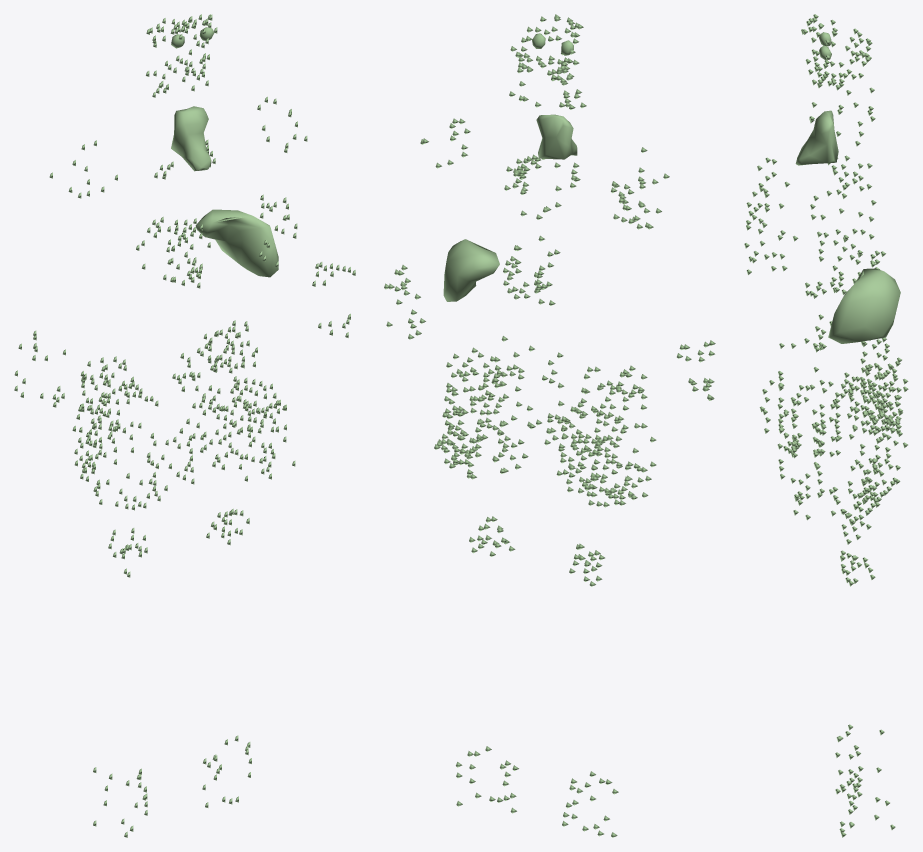
Rendered from pediatric_child_10y_female.lymphatic.LOD3.glb.
3 renders of one model, left to right at view 1: azimuth 30°, elevation 25°; view 2: azimuth 150°, elevation 25°; view 3: azimuth 270°, elevation 25°, orthographic. The views are drawn at different scales.
Parts seen in each view (by area): view 1: PEDIATRIC.CHILD_10Y.FEMALE.LYMPHATIC.LYMPHATIC_NODES_TRUNK, PEDIATRIC.CHILD_10Y.FEMALE.LYMPHATIC.SPLEEN, PEDIATRIC.CHILD_10Y.FEMALE.LYMPHATIC.THYMUS, PEDIATRIC.CHILD_10Y.FEMALE.LYMPHATIC.LYMPHATIC_NODES_ET, PEDIATRIC.CHILD_10Y.FEMALE.LYMPHATIC.LYMPHATIC_NODES_THORACI, PEDIATRIC.CHILD_10Y.FEMALE.LYMPHATIC.LYMPHATIC_NODES_LEGS, PEDIATRIC.CHILD_10Y.FEMALE.LYMPHATIC.LYMPHATIC_NODES_ARMS; view 2: PEDIATRIC.CHILD_10Y.FEMALE.LYMPHATIC.LYMPHATIC_NODES_TRUNK, PEDIATRIC.CHILD_10Y.FEMALE.LYMPHATIC.SPLEEN, PEDIATRIC.CHILD_10Y.FEMALE.LYMPHATIC.THYMUS, PEDIATRIC.CHILD_10Y.FEMALE.LYMPHATIC.LYMPHATIC_NODES_THORACI, PEDIATRIC.CHILD_10Y.FEMALE.LYMPHATIC.LYMPHATIC_NODES_ET, PEDIATRIC.CHILD_10Y.FEMALE.LYMPHATIC.LYMPHATIC_NODES_LEGS, PEDIATRIC.CHILD_10Y.FEMALE.LYMPHATIC.LYMPHATIC_NODES_ARMS; view 3: PEDIATRIC.CHILD_10Y.FEMALE.LYMPHATIC.LYMPHATIC_NODES_TRUNK, PEDIATRIC.CHILD_10Y.FEMALE.LYMPHATIC.SPLEEN, PEDIATRIC.CHILD_10Y.FEMALE.LYMPHATIC.THYMUS, PEDIATRIC.CHILD_10Y.FEMALE.LYMPHATIC.LYMPHATIC_NODES_ET, PEDIATRIC.CHILD_10Y.FEMALE.LYMPHATIC.LYMPHATIC_NODES_ARMS, PEDIATRIC.CHILD_10Y.FEMALE.LYMPHATIC.LYMPHATIC_NODES_THORACI, PEDIATRIC.CHILD_10Y.FEMALE.LYMPHATIC.LYMPHATIC_NODES_LEGS, PEDIATRIC.CHILD_10Y.FEMALE.LYMPHATIC.LYMPHATIC_NODES_HEAD.
Part boxes in pixels (x1,y1,x2,y2): PEDIATRIC.CHILD_10Y.FEMALE.LYMPHATIC.LYMPHATIC_NODES_TRUNK: (49,96,307,577); PEDIATRIC.CHILD_10Y.FEMALE.LYMPHATIC.SPLEEN: (195,209,278,277); PEDIATRIC.CHILD_10Y.FEMALE.LYMPHATIC.THYMUS: (171,106,211,171); PEDIATRIC.CHILD_10Y.FEMALE.LYMPHATIC.LYMPHATIC_NODES_ET: (146,14,217,76); PEDIATRIC.CHILD_10Y.FEMALE.LYMPHATIC.LYMPHATIC_NODES_THORACI: (141,139,215,288); PEDIATRIC.CHILD_10Y.FEMALE.LYMPHATIC.LYMPHATIC_NODES_LEGS: (93,735,251,837); PEDIATRIC.CHILD_10Y.FEMALE.LYMPHATIC.LYMPHATIC_NODES_ARMS: (14,262,355,407); PEDIATRIC.CHILD_10Y.FEMALE.LYMPHATIC.LYMPHATIC_NODES_TRUNK: (420,118,669,586); PEDIATRIC.CHILD_10Y.FEMALE.LYMPHATIC.SPLEEN: (443,239,499,301); PEDIATRIC.CHILD_10Y.FEMALE.LYMPHATIC.THYMUS: (536,114,577,159); PEDIATRIC.CHILD_10Y.FEMALE.LYMPHATIC.LYMPHATIC_NODES_THORACI: (503,154,580,305); PEDIATRIC.CHILD_10Y.FEMALE.LYMPHATIC.LYMPHATIC_NODES_ET: (510,14,583,80); PEDIATRIC.CHILD_10Y.FEMALE.LYMPHATIC.LYMPHATIC_NODES_LEGS: (456,746,618,837); PEDIATRIC.CHILD_10Y.FEMALE.LYMPHATIC.LYMPHATIC_NODES_ARMS: (384,265,715,400); PEDIATRIC.CHILD_10Y.FEMALE.LYMPHATIC.LYMPHATIC_NODES_TRUNK: (744,80,908,586); PEDIATRIC.CHILD_10Y.FEMALE.LYMPHATIC.SPLEEN: (828,268,900,343); PEDIATRIC.CHILD_10Y.FEMALE.LYMPHATIC.THYMUS: (795,110,838,165); PEDIATRIC.CHILD_10Y.FEMALE.LYMPHATIC.LYMPHATIC_NODES_ET: (801,14,872,85); PEDIATRIC.CHILD_10Y.FEMALE.LYMPHATIC.LYMPHATIC_NODES_ARMS: (805,231,856,442); PEDIATRIC.CHILD_10Y.FEMALE.LYMPHATIC.LYMPHATIC_NODES_THORACI: (821,155,885,294); PEDIATRIC.CHILD_10Y.FEMALE.LYMPHATIC.LYMPHATIC_NODES_LEGS: (835,724,895,837); PEDIATRIC.CHILD_10Y.FEMALE.LYMPHATIC.LYMPHATIC_NODES_HEAD: (812,62,874,114).
Size of the model in its own units: 0.3942 by 0.9156 by 0.1713.
